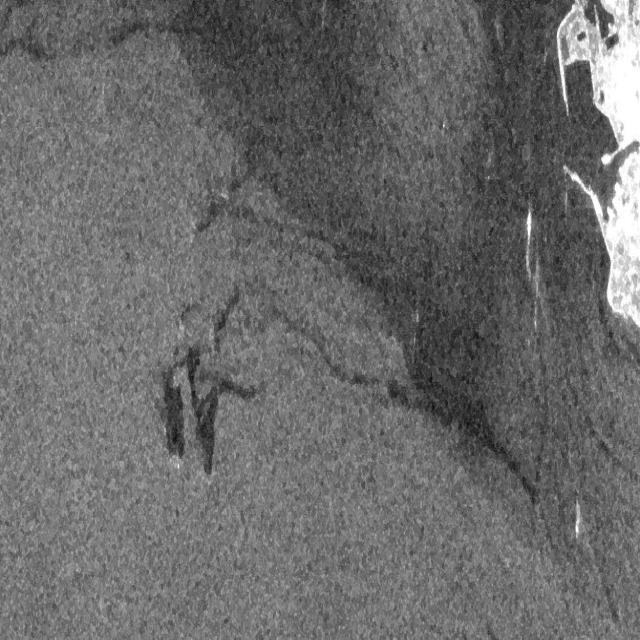look-alike: (173, 7, 397, 246), (363, 267, 548, 531), (471, 11, 555, 184)
oil-spill: (152, 283, 262, 480)
